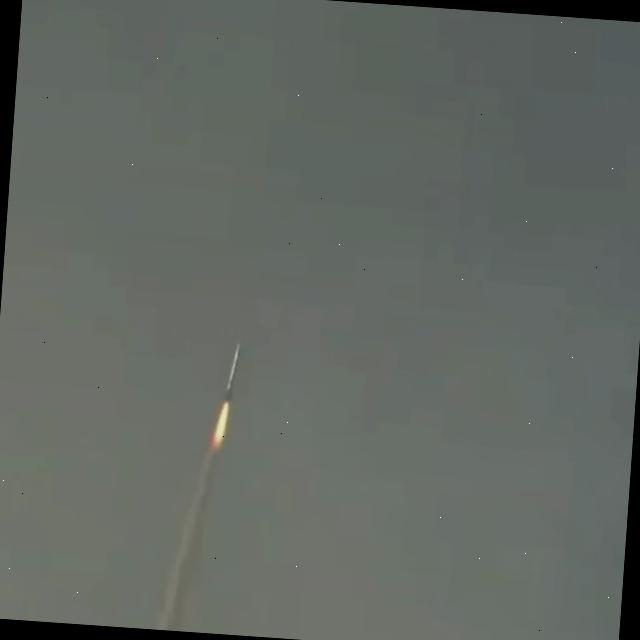rocket: (223, 343, 240, 401)
smoke_trail_with_rocket: (153, 343, 242, 631)
